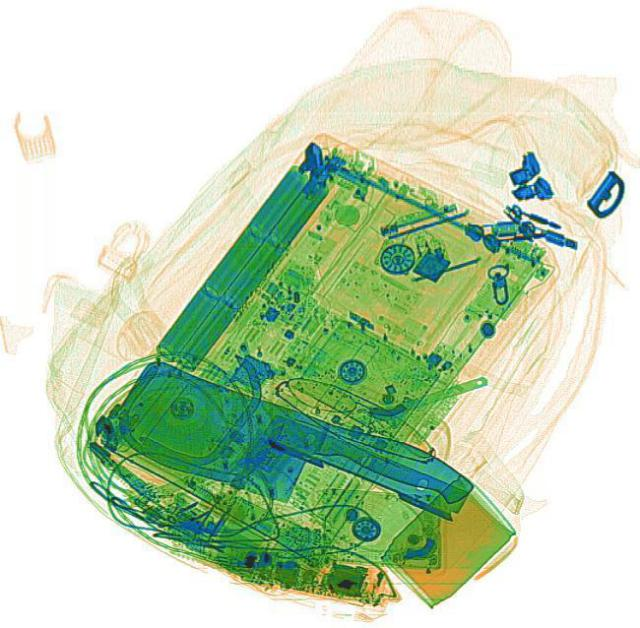Knife: (106, 351, 478, 560)
